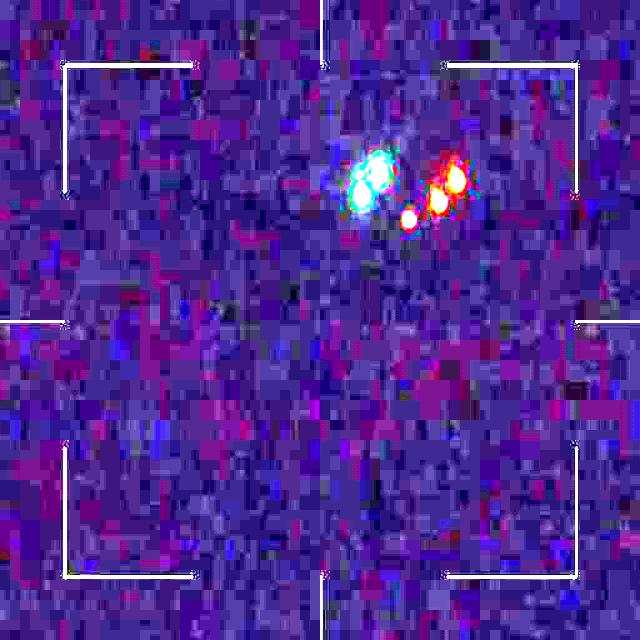bird: (352, 156, 466, 230)
